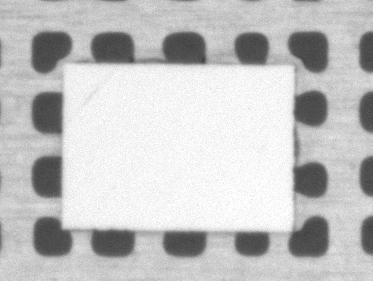DIE_CRACK: (77, 80, 102, 113)
